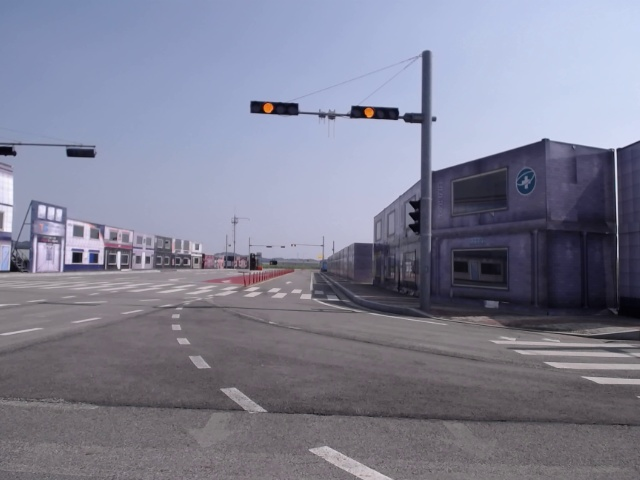orange_4: (351, 104, 401, 121), (251, 99, 299, 116)
